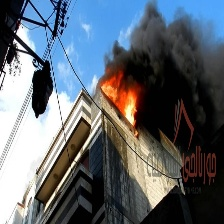fire: (99, 71, 144, 126)
smoke: (132, 5, 224, 138)
